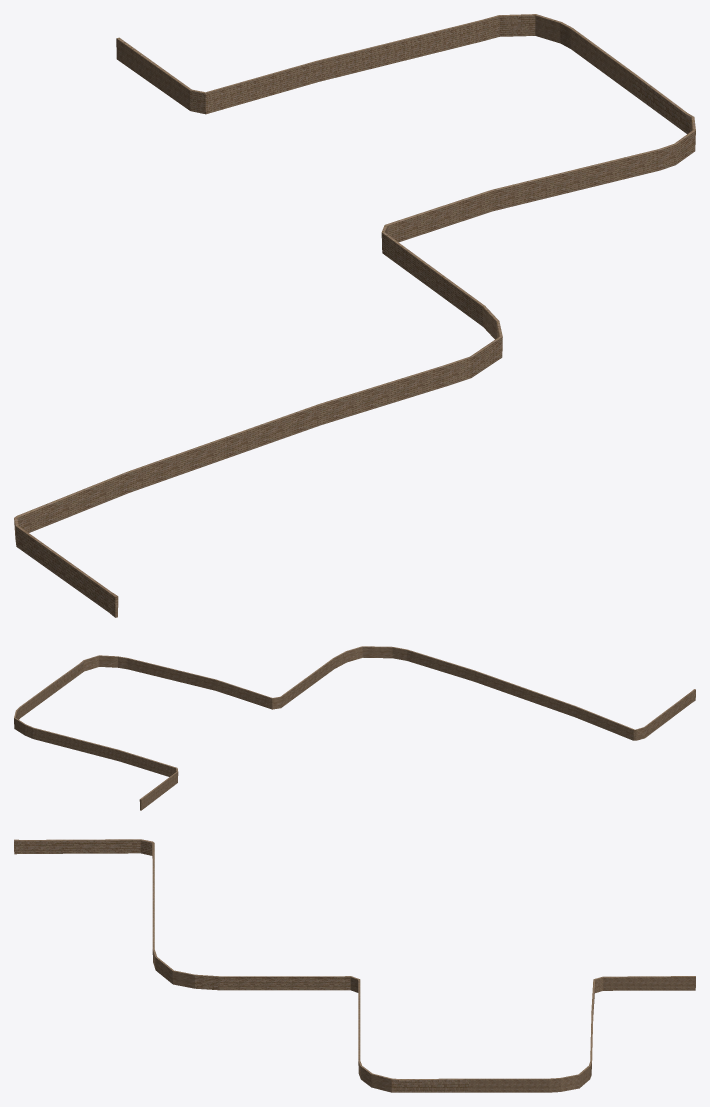
File: lod_wall_cm01.obj
3 renders of one model, top to bottom at view 1: azimuth 30°, elevation 25°; view 2: azimuth 150°, elevation 25°; view 3: azimuth 270°, elevation 25°, orthographic. The views are drawn at different scales.
Parts seen in each view (by area): view 1: LOD_wall_cm01; view 2: LOD_wall_cm01; view 3: LOD_wall_cm01.
Boxes of the visible parts, x1,y1,x2,y2 form: LOD_wall_cm01: (14, 14, 695, 617); LOD_wall_cm01: (14, 646, 695, 810); LOD_wall_cm01: (14, 839, 695, 1092).
Bounding box in the file's own units: 83.15 × 7.1 × 86.68.
1 material, 1 textured.
